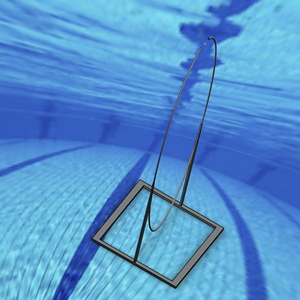circle: (90, 33, 224, 288)
